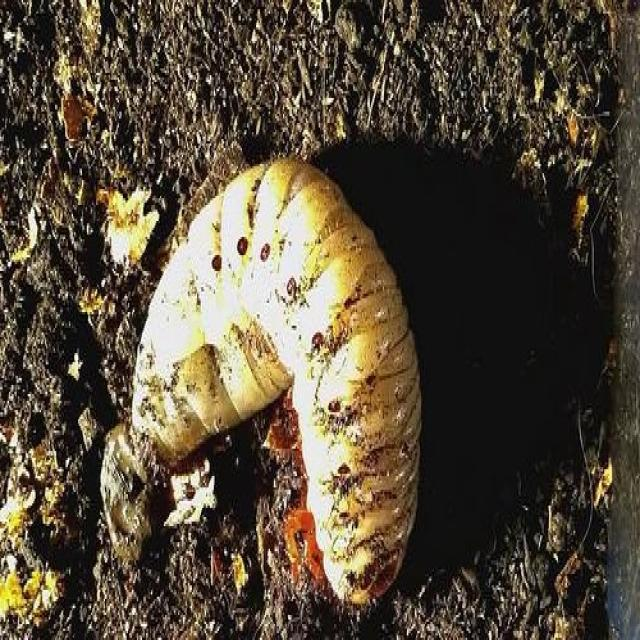grub: (121, 148, 424, 601)
